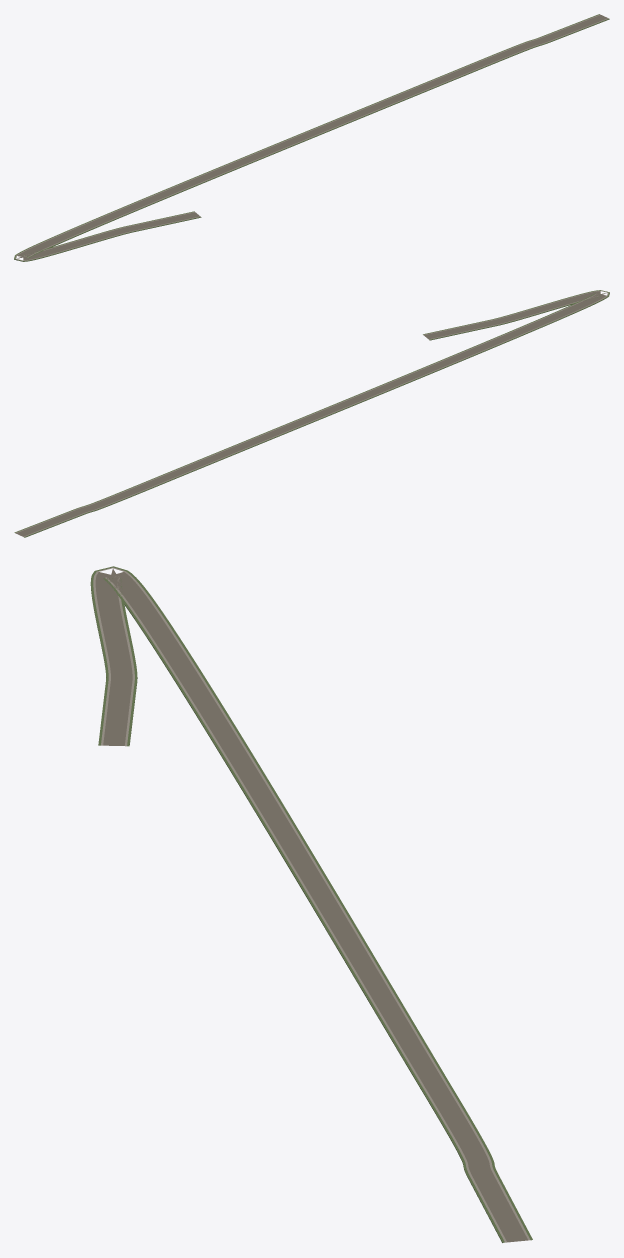
The model's file is road_roam_to2_autumn_summit.glb.
3 renders of one model, top to bottom at view 1: azimuth 30°, elevation 25°; view 2: azimuth 210°, elevation 25°; view 3: azimuth 270°, elevation 25°, orthographic. The views are drawn at different scales.
Visible parts, largest first — view 1: road; view 2: road; view 3: road.
Part boxes in pixels (x1,y1,x2,y2): road: [14, 14, 609, 261]; road: [14, 290, 609, 537]; road: [90, 566, 532, 1242].
Size of the model in its own units: 613 by 0.32 by 169.
